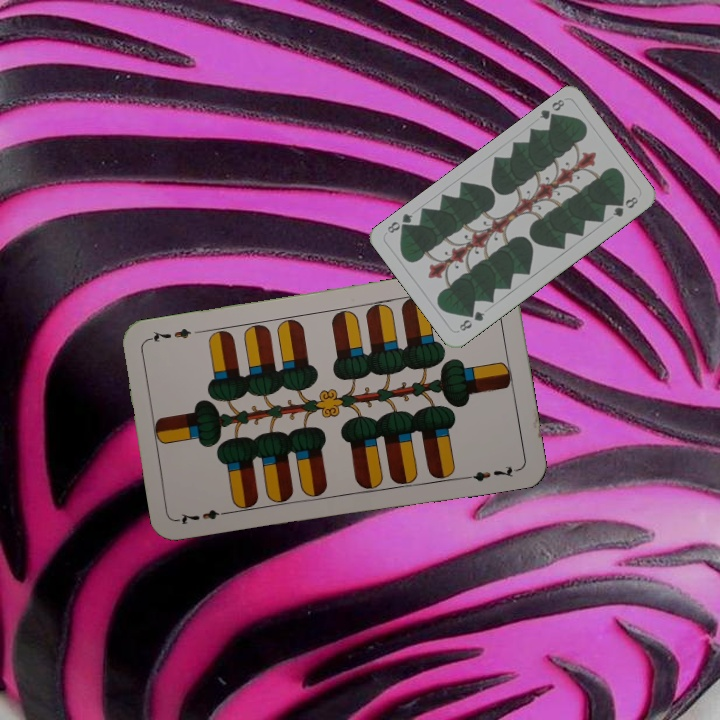E7: (175, 505, 234, 527)
G8: (535, 95, 567, 125), (455, 307, 487, 334)
